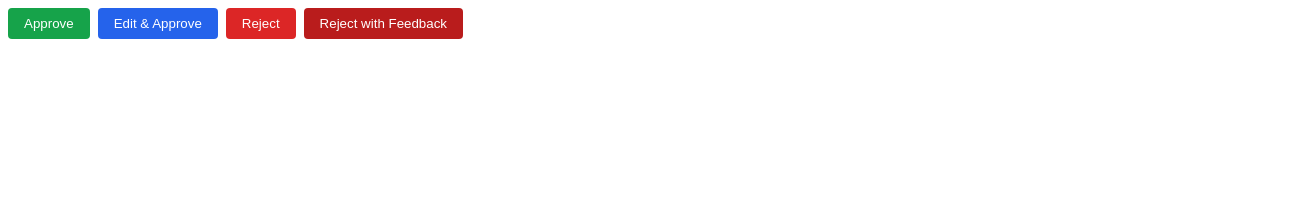
HilActionButtons › reveals feedback input when Reject with feedback clicked
Click the button with test id "btn-reject-feedback" at (383, 24), box [304,8,463,39]
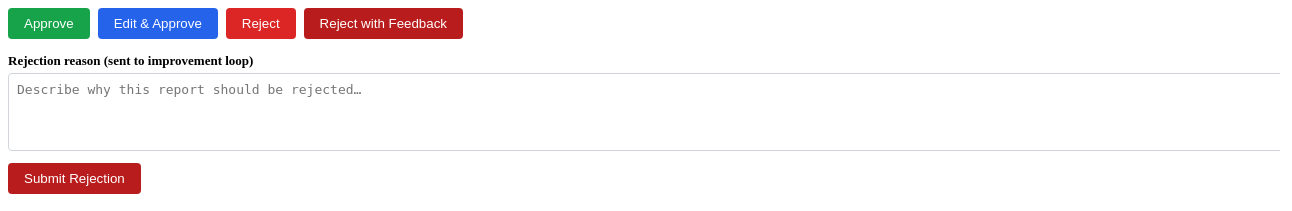
Check: the element with test id "reject-feedback-panel" is shown
